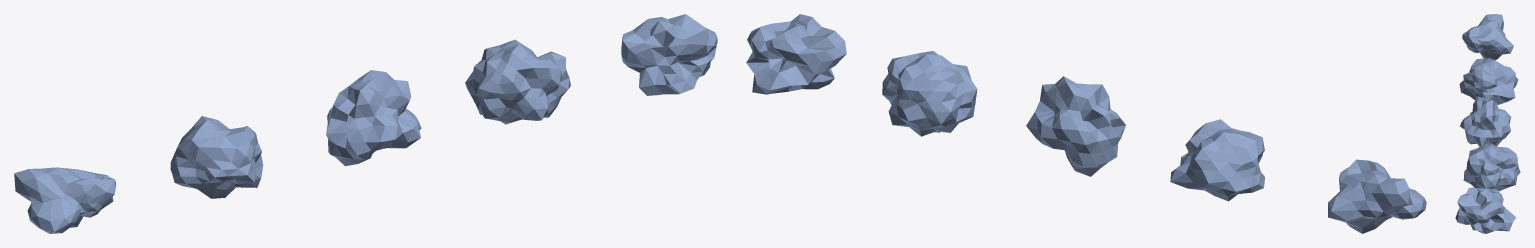
Rendered from Asteroids(new)(2.16).fbx.
3 views of the same model, side by side, from view 1: azimuth 30°, elevation 25°; view 2: azimuth 150°, elevation 25°; view 3: azimuth 270°, elevation 25° (orthographic). The views are drawn at different scales.
Parts seen in each view (by area): view 1: Icosphere.005, Icosphere.006, B, Icosphere.007, Icosphere.008; view 2: Icosphere.006, Icosphere.005, B, Icosphere.007, Icosphere.008; view 3: Icosphere.005, B, Icosphere.007, Icosphere.006, Icosphere.008.
Boxes of the visible parts, x1,y1,x2,y2 form: Icosphere.005: (465,39,570,124); Icosphere.006: (326,70,421,166); B: (621,14,717,95); Icosphere.007: (170,116,263,198); Icosphere.008: (14,167,115,233); Icosphere.006: (1026,76,1125,176); Icosphere.005: (882,51,977,136); B: (746,14,846,94); Icosphere.007: (1170,119,1264,201); Icosphere.008: (1328,159,1426,233); Icosphere.005: (1463,144,1520,191); B: (1455,187,1516,233); Icosphere.007: (1459,58,1518,104); Icosphere.006: (1460,96,1510,147); Icosphere.008: (1462,14,1513,60).
Size of the model in its own units: 1206 by 151 by 170.
